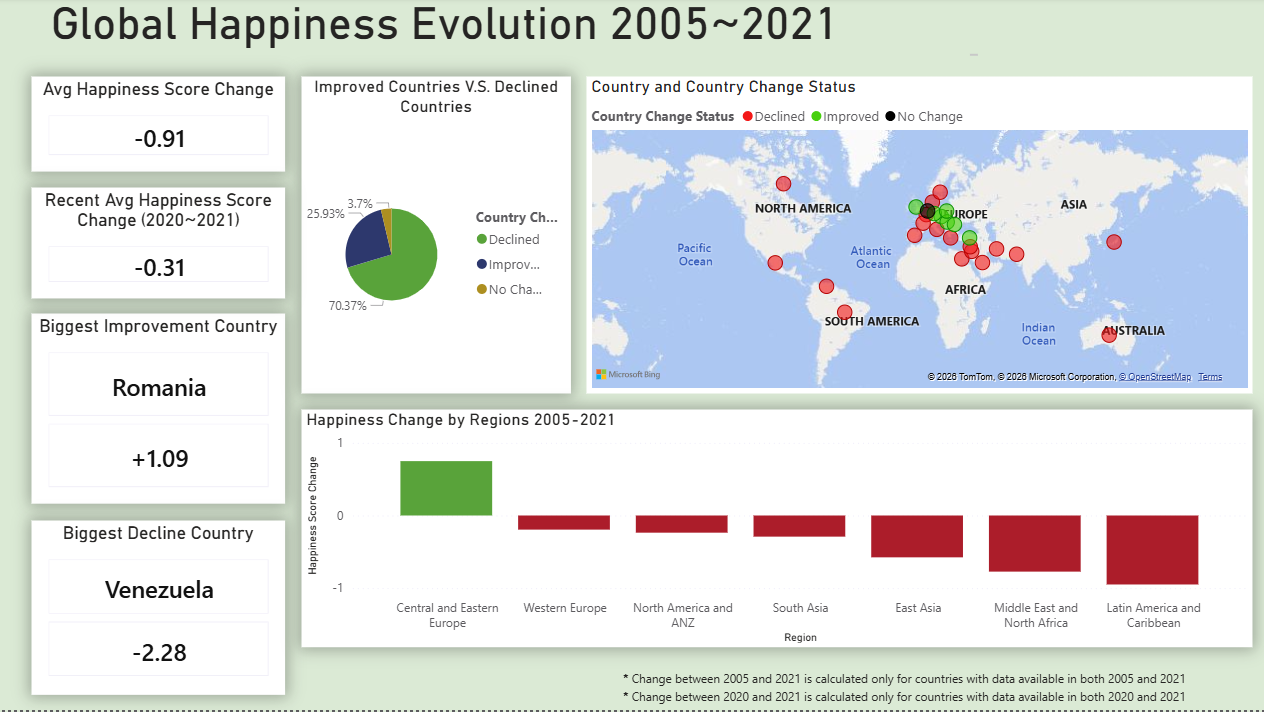

Layout of this report page (visuals, bound fields, positions):
{"tool":"powerbi","page":{"name":"Happiness Evolution","canvas":[1280,720],"ordinal":11},"visuals":[{"type":"cardVisual","title":"Avg Happiness Score Change","fields":{"Data":["Model Measures.Happiness Change 2005-2021"]},"box":[32,80,256,96],"z":0},{"type":"textbox","title":"Global Happiness Evolution 2005~2021","box":[32,0,960,64],"z":1000},{"type":"cardVisual","title":"Biggest Improvement Country","fields":{"Data":["Model Measures.Biggest Improvement Country","Model Measures.Biggest Improvement Display"]},"box":[32,320,256,192],"z":2000},{"type":"cardVisual","title":"Biggest Decline Country","fields":{"Data":["Model Measures.Biggest Decline Country","Model Measures.Biggest Decline Display"]},"box":[32,528,256,176],"z":3000},{"type":"pieChart","title":"Improved Countries V.S. Declined Countries","fields":{"Y":["Model Measures.Country Count"],"Series":["dim_country.Country Change Status"]},"box":[304,80,272,320],"z":4000},{"type":"clusteredColumnChart","title":"Happiness Change by Regions 2005-2021","fields":{"Y":["Model Measures.Region Avg Change"],"Category":["dim_country.Region"]},"box":[304,416,960,240],"z":5000},{"type":"cardVisual","title":"Recent Avg Happiness Score Change (2020~2021)","fields":{"Data":["Model Measures.Happiness Change 2020-2021"]},"box":[32,192,256,112],"z":6000},{"type":"textbox","box":[624,672,608,48],"z":7000},{"type":"map","fields":{"Category":["dim_country.Country"],"Series":["dim_country.Country Change Status"]},"box":[592,80,672,320],"z":8000}]}

Visuals, with their boxes in screenshot pixels (x1, y1, x2, y2), scaled from the page's 1280x720 canvas onto the 1264x712 screenshot:
"Avg Happiness Score Change" cardVisual: 32, 79, 284, 174
"Global Happiness Evolution 2005~2021" textbox: 32, 0, 980, 63
"Biggest Improvement Country" cardVisual: 32, 316, 284, 506
"Biggest Decline Country" cardVisual: 32, 522, 284, 696
"Improved Countries V.S. Declined Countries" pieChart: 300, 79, 569, 396
"Happiness Change by Regions 2005-2021" clusteredColumnChart: 300, 411, 1248, 649
"Recent Avg Happiness Score Change (2020~2021)" cardVisual: 32, 190, 284, 301
textbox: 616, 665, 1217, 711
map - dim_country.Country x dim_country.Country Change Status: 585, 79, 1248, 396
